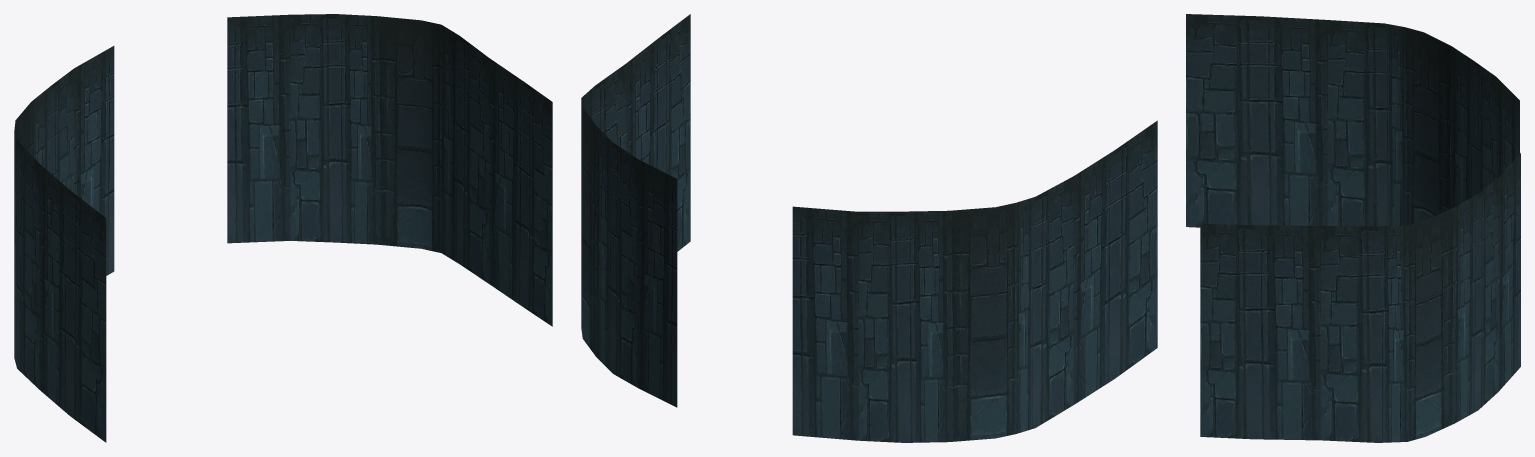
The model's file is moba_q.FBX.
The picture shows the model from 3 angles, left to right: view 1: azimuth 30°, elevation 25°; view 2: azimuth 150°, elevation 25°; view 3: azimuth 270°, elevation 25°; orthographic projection. The views are drawn at different scales.
Visible parts, largest first — view 1: moba_q; view 2: moba_q; view 3: moba_q.
Boxes of the visible parts, x1,y1,x2,y2 form: moba_q: [14, 14, 552, 442]; moba_q: [581, 14, 1157, 442]; moba_q: [1186, 14, 1520, 442].
Bounding box in the file's own units: 1432 × 965 × 696.
